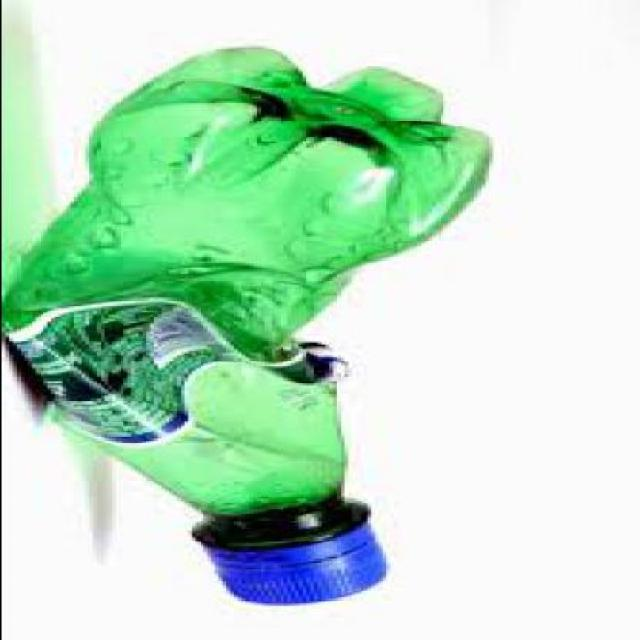PLASTIC: (3, 45, 495, 606), (3, 295, 351, 443), (191, 509, 392, 603)
